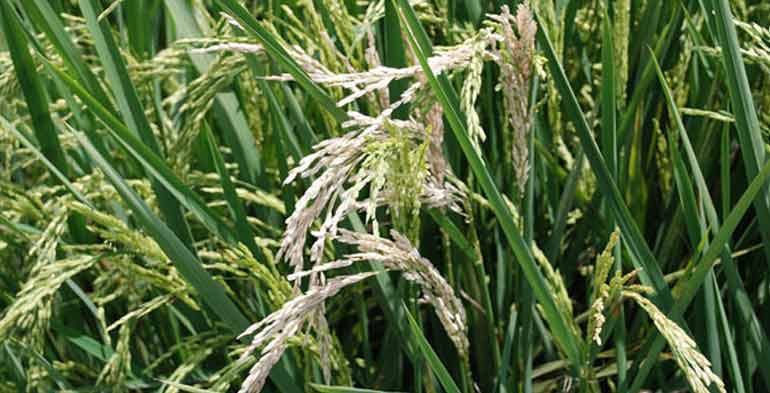Weed: (86, 207, 200, 315), (647, 48, 696, 207)
